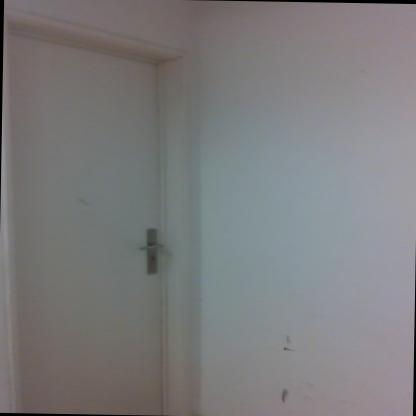closed: (0, 51, 203, 415)
